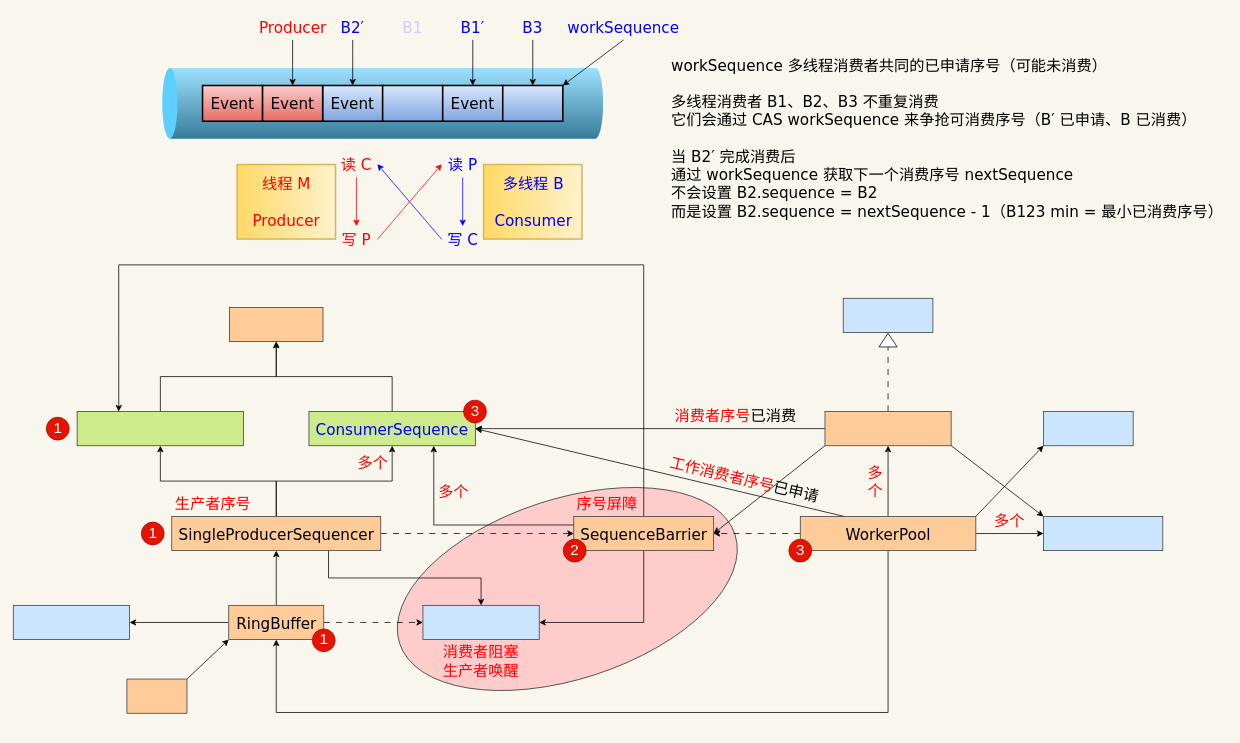
This 1240x743 diagram has some shape labels left out. Each missing label, with the centre of its shape:
"EventFactory" belongs at point 71,622.
"Executor" belongs at point 1088,428.
"Main" belongs at point 156,695.
"ProducerSequence" belongs at point 160,428.
"Runnable" belongs at point 887,315.
"Sequence" belongs at point 276,324.
"WaitStrategy" belongs at point 480,622.
"WorkHandler" belongs at point 1103,533.
"WorkProcessor" belongs at point 887,428.
